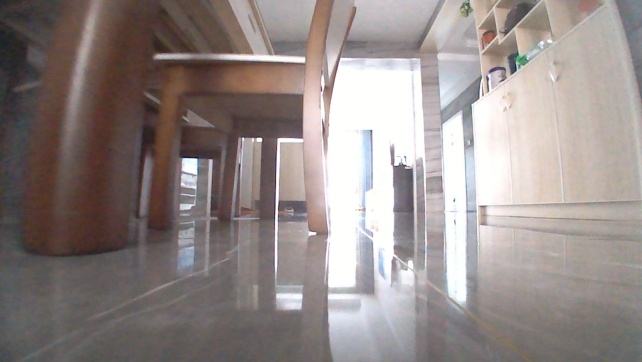dining_table1: (0, 0, 361, 259)
